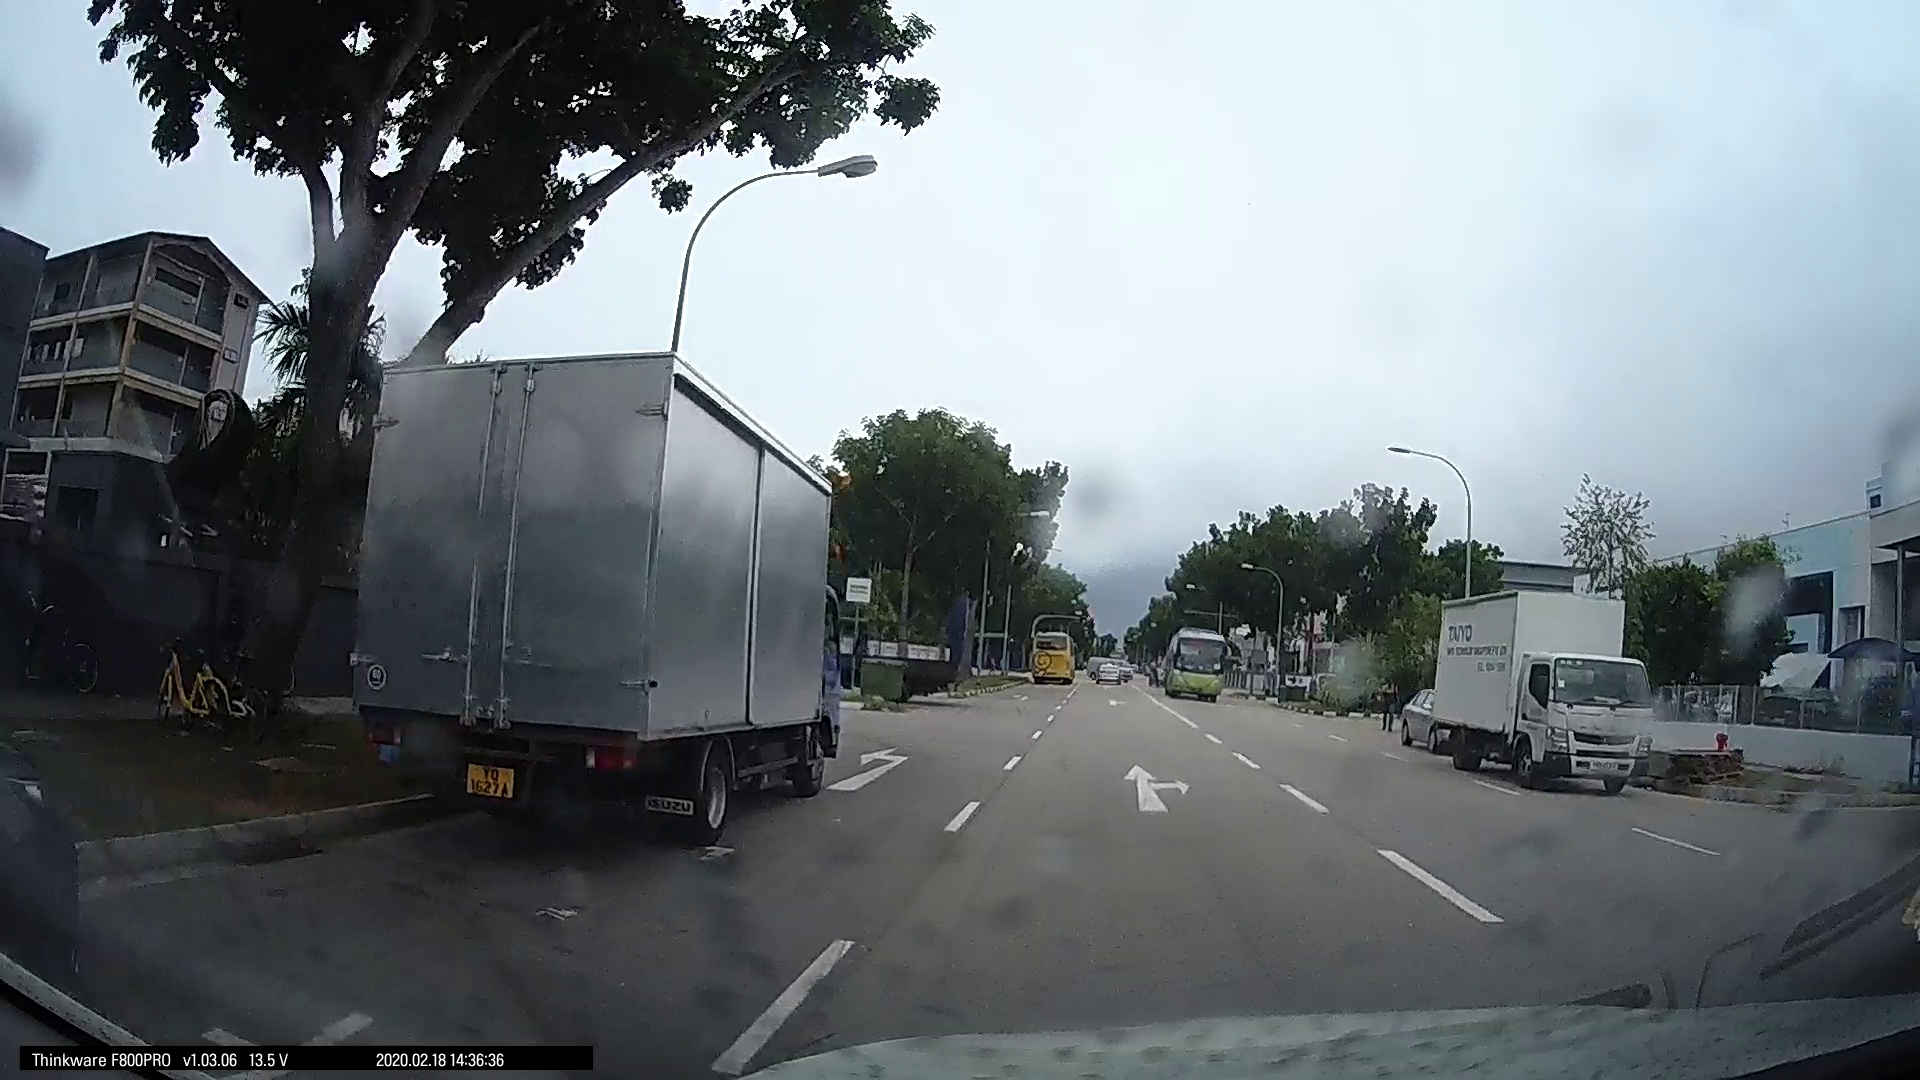Heavy Vehicle: (5, 232, 802, 972)
Light Vehicle: (1569, 661, 1851, 898), (1296, 680, 1494, 795), (1167, 651, 1296, 713), (953, 650, 1036, 728), (1036, 644, 1134, 698)
